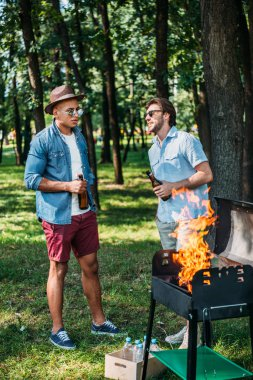fire: (175, 209, 214, 284)
